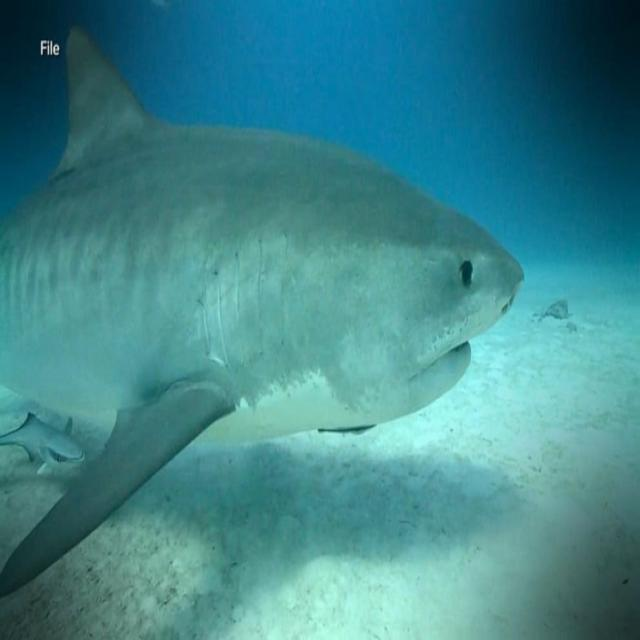shark: (0, 29, 523, 594), (0, 413, 83, 471)
